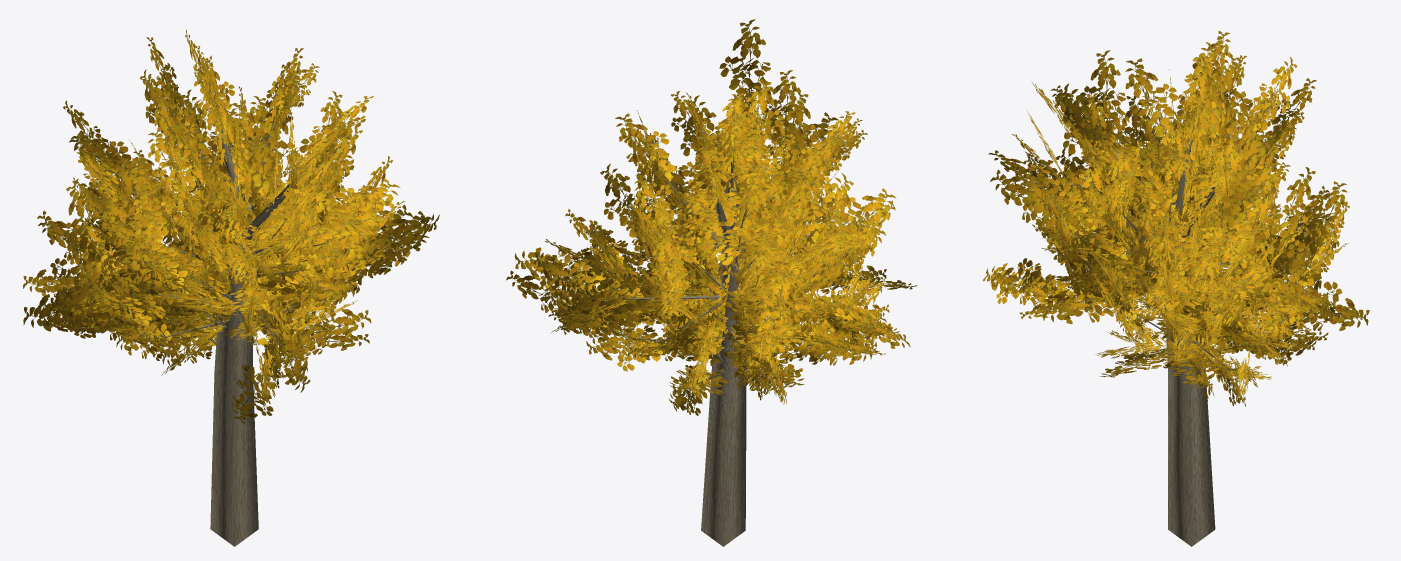
File: tree_LOD2.gltf
3 renders of one model, left to right at view 1: azimuth 30°, elevation 25°; view 2: azimuth 150°, elevation 25°; view 3: azimuth 270°, elevation 25°, orthographic. The views are drawn at different scales.
Visible parts, largest first — view 1: Leaves_LOD2, Branches_LOD2; view 2: Leaves_LOD2, Branches_LOD2; view 3: Leaves_LOD2, Branches_LOD2.
Boxes of the visible parts, x1,y1,x2,y2 form: Leaves_LOD2: (23, 29, 439, 424); Branches_LOD2: (122, 118, 322, 546); Leaves_LOD2: (506, 19, 917, 415); Branches_LOD2: (615, 155, 822, 546); Leaves_LOD2: (982, 31, 1369, 406); Branches_LOD2: (1069, 134, 1289, 546).
Bounding box in the file's own units: 86.4 × 96.01 × 75.49.
Materials: 2 (2 with a texture image).
